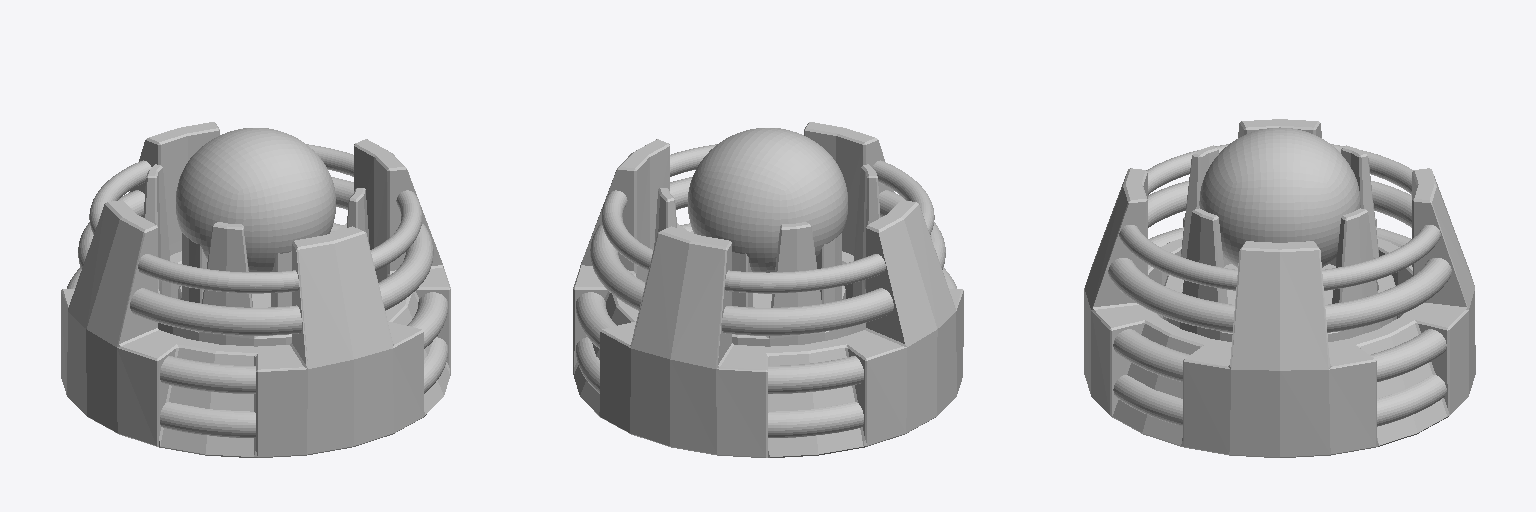
The model's file is laser_source_02.obj.
3 views of the same model, side by side, from view 1: azimuth 30°, elevation 25°; view 2: azimuth 150°, elevation 25°; view 3: azimuth 270°, elevation 25° (orthographic).
Visible parts, largest first — view 1: Cylinder, Roundcube, Torus, Torus.001, Torus.002, Torus.003; view 2: Cylinder, Roundcube, Torus, Torus.001, Torus.002, Torus.003; view 3: Cylinder, Roundcube, Torus, Torus.001, Torus.002, Torus.003.
Part boxes in pixels (bbox=[...]): Cylinder: bbox=[61, 122, 450, 457]; Roundcube: bbox=[176, 128, 335, 271]; Torus: bbox=[78, 177, 433, 335]; Torus.001: bbox=[89, 144, 421, 293]; Torus.002: bbox=[67, 223, 447, 393]; Torus.003: bbox=[160, 337, 447, 437]; Cylinder: bbox=[573, 122, 963, 457]; Roundcube: bbox=[688, 128, 847, 272]; Torus: bbox=[590, 177, 945, 335]; Torus.001: bbox=[602, 144, 934, 293]; Torus.002: bbox=[576, 223, 956, 393]; Torus.003: bbox=[576, 337, 863, 437]; Cylinder: bbox=[1084, 119, 1475, 457]; Roundcube: bbox=[1199, 127, 1360, 267]; Torus: bbox=[1108, 181, 1451, 332]; Torus.001: bbox=[1119, 144, 1440, 290]; Torus.002: bbox=[1113, 227, 1446, 381]; Torus.003: bbox=[1113, 375, 1446, 426].
Bounding box in the file's own units: 1 × 0.6806 × 1.